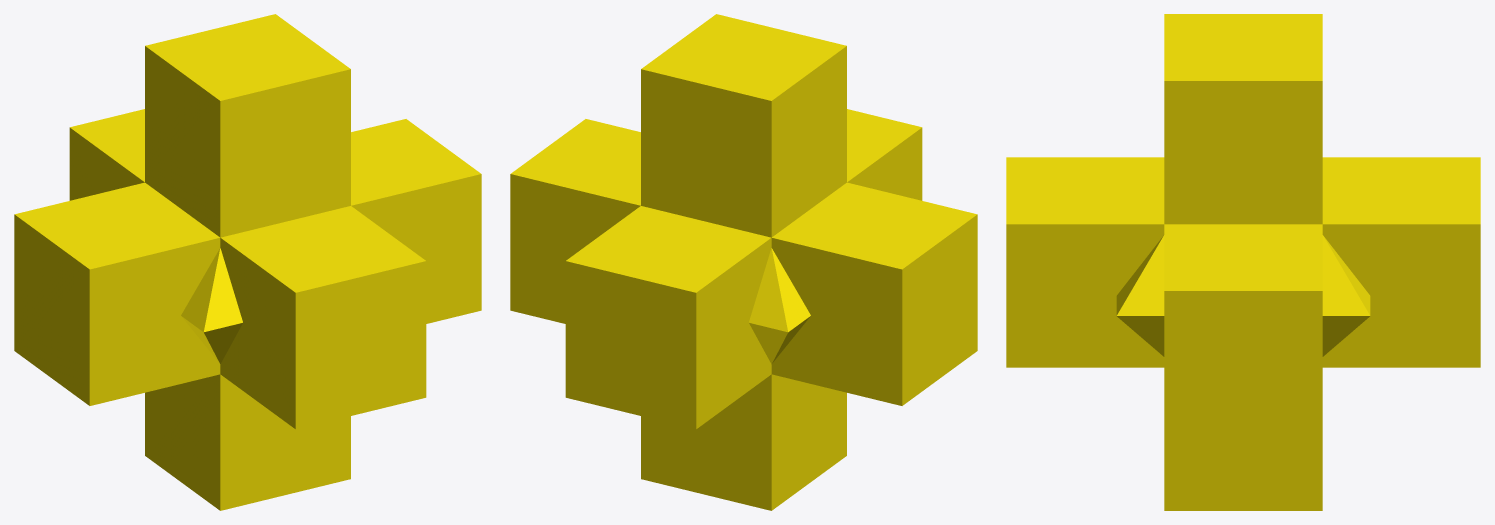
File: Bonus.FBX
3 renders of one model, left to right at view 1: azimuth 30°, elevation 25°; view 2: azimuth 150°, elevation 25°; view 3: azimuth 270°, elevation 25°, orthographic. The views are drawn at different scales.
Visible parts, largest first — view 1: BonusTwo, BonusOne; view 2: BonusTwo, BonusOne; view 3: BonusTwo, BonusOne.
Part boxes in pixels (<box>): BonusTwo: <box>14,14,481,510</box>; BonusOne: <box>181,248,242,364</box>; BonusTwo: <box>510,14,977,510</box>; BonusOne: <box>749,248,810,364</box>; BonusTwo: <box>1006,14,1480,510</box>; BonusOne: <box>1116,235,1370,356</box>.
Bounding box in the file's own units: 3.64 × 3.64 × 3.64.
